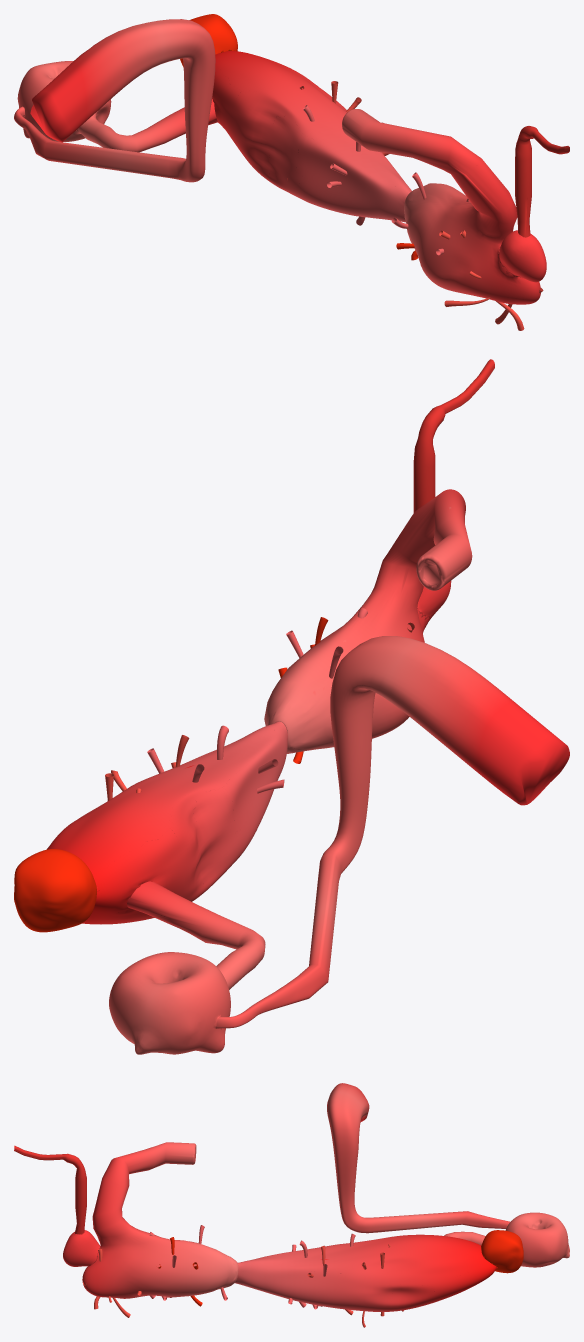
File: Heart S2 .fbx
3 renders of one model, top to bottom at view 1: azimuth 30°, elevation 25°; view 2: azimuth 150°, elevation 25°; view 3: azimuth 270°, elevation 25°, orthographic. The views are drawn at different scales.
Visible parts, largest first — view 1: Left_Heart.002, Cube, Right_Heart, Giriş Damarı; view 2: Left_Heart.002, Cube, Right_Heart, Giriş Damarı; view 3: Cube, Right_Heart, Left_Heart.002, Giriş Damarı.
Boxes of the visible parts, <box> form: Left_Heart.002: <box>14,19,217,182</box>; Cube: <box>180,14,411,222</box>; Right_Heart: <box>342,109,546,304</box>; Giriş Damarı: <box>515,126,569,237</box>; Left_Heart.002: <box>109,636,569,1054</box>; Cube: <box>14,721,287,932</box>; Right_Heart: <box>264,489,472,753</box>; Giriş Damarı: <box>413,359,494,512</box>; Cube: <box>234,1230,523,1311</box>; Right_Heart: <box>63,1142,238,1298</box>; Left_Heart.002: <box>327,1083,569,1267</box>; Giriş Damarı: <box>14,1145,86,1234</box>.
Bounding box in the file's own units: 15183 × 10459 × 30553.
